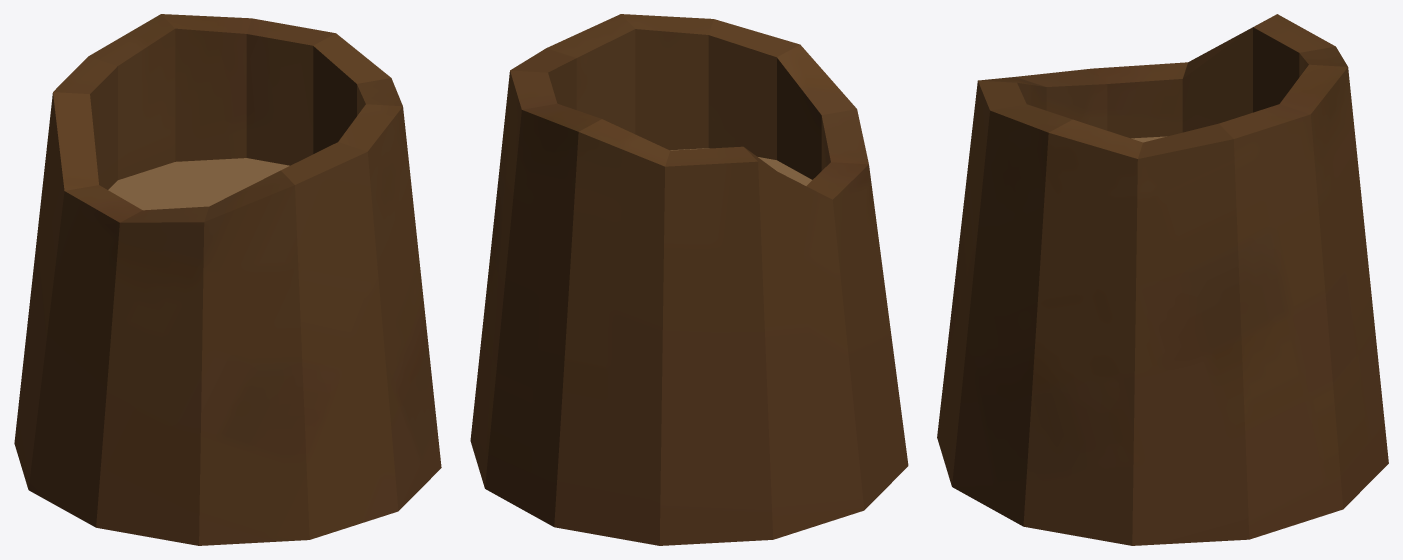
The model's file is Trunks5.gltf.
The picture shows the model from 3 angles, left to right: view 1: azimuth 30°, elevation 25°; view 2: azimuth 150°, elevation 25°; view 3: azimuth 270°, elevation 25°; orthographic projection. The views are drawn at different scales.
Visible parts, largest first — view 1: Trunk4 - copy.009; view 2: Trunk4 - copy.009; view 3: Trunk4 - copy.009.
Part boxes in pixels (x1,y1,x2,y2): Trunk4 - copy.009: [14, 14, 441, 545]; Trunk4 - copy.009: [470, 14, 908, 545]; Trunk4 - copy.009: [937, 14, 1388, 545].
Size of the model in its own units: 0.5188 by 0.4994 by 0.5188.
Materials: 1 (1 with a texture image).
